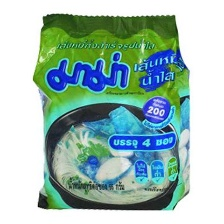snack: (25, 5, 197, 217)
